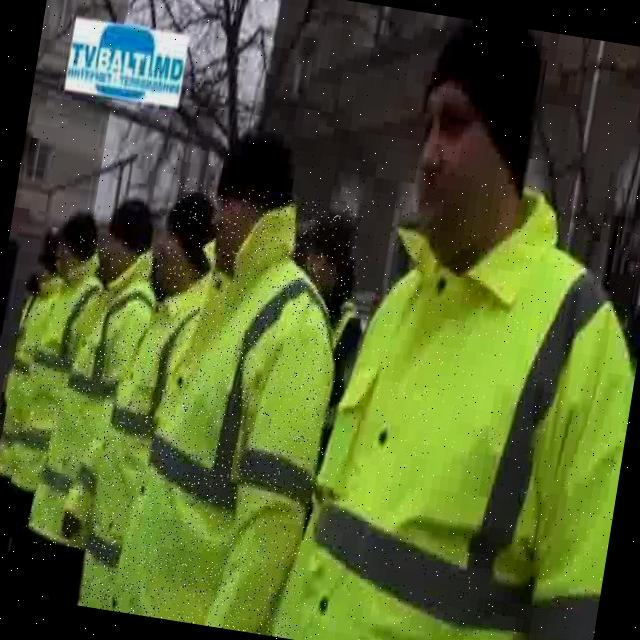vest: (270, 156, 640, 640), (109, 177, 363, 640), (79, 260, 218, 619), (25, 234, 168, 556), (11, 239, 110, 497), (0, 269, 65, 488)
